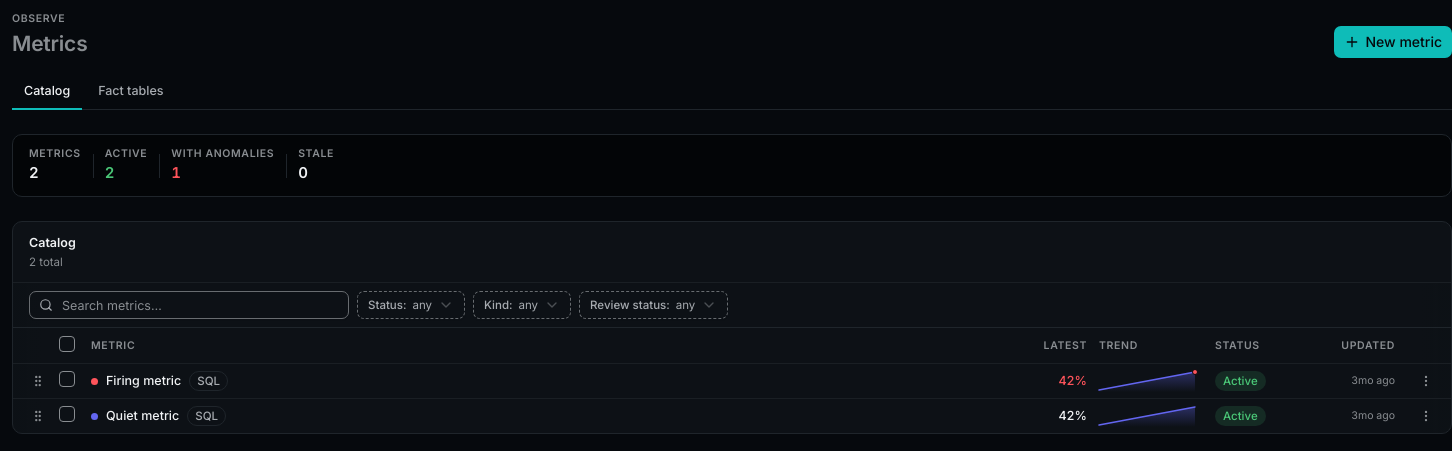
Scenario: MetricsPage › operational stat bar and column context (tripl-nxk2.10 / tripl-nxk2.11) › counts active anomalies and filters the table to them on click
Expected: the link "Firing metric" is shown, [106,372,181,390]
Expected: the link "Quiet metric" is shown, [106,407,179,425]
Click the button "With anomalies 1" at (223, 166), box [163,143,282,188]
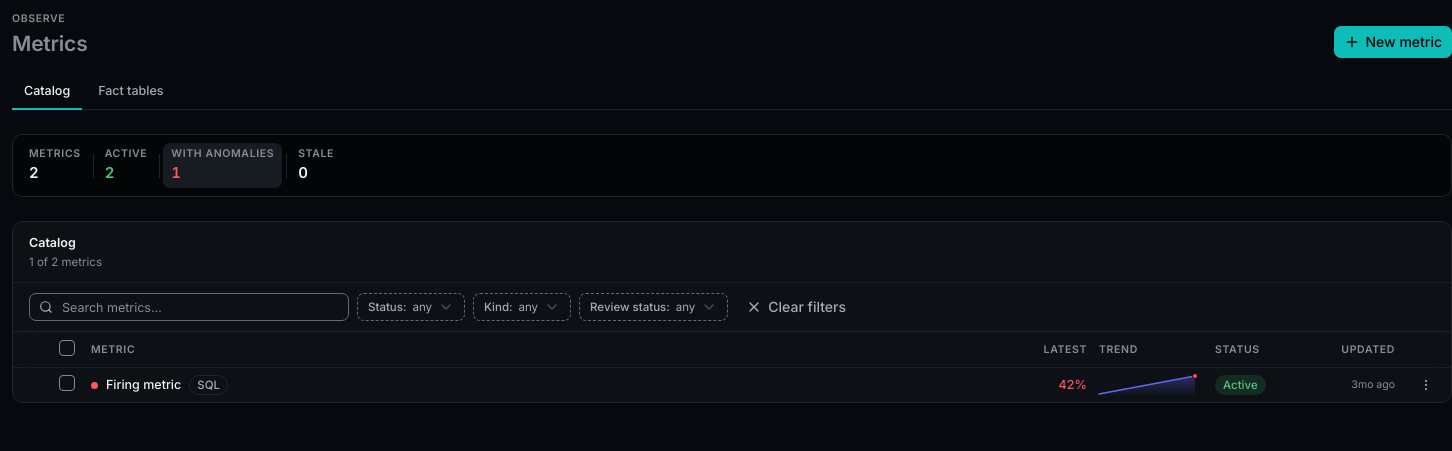
Expected: the link "Firing metric" is shown, [106,376,181,394]
Expected: the link "Quiet metric" is gone
